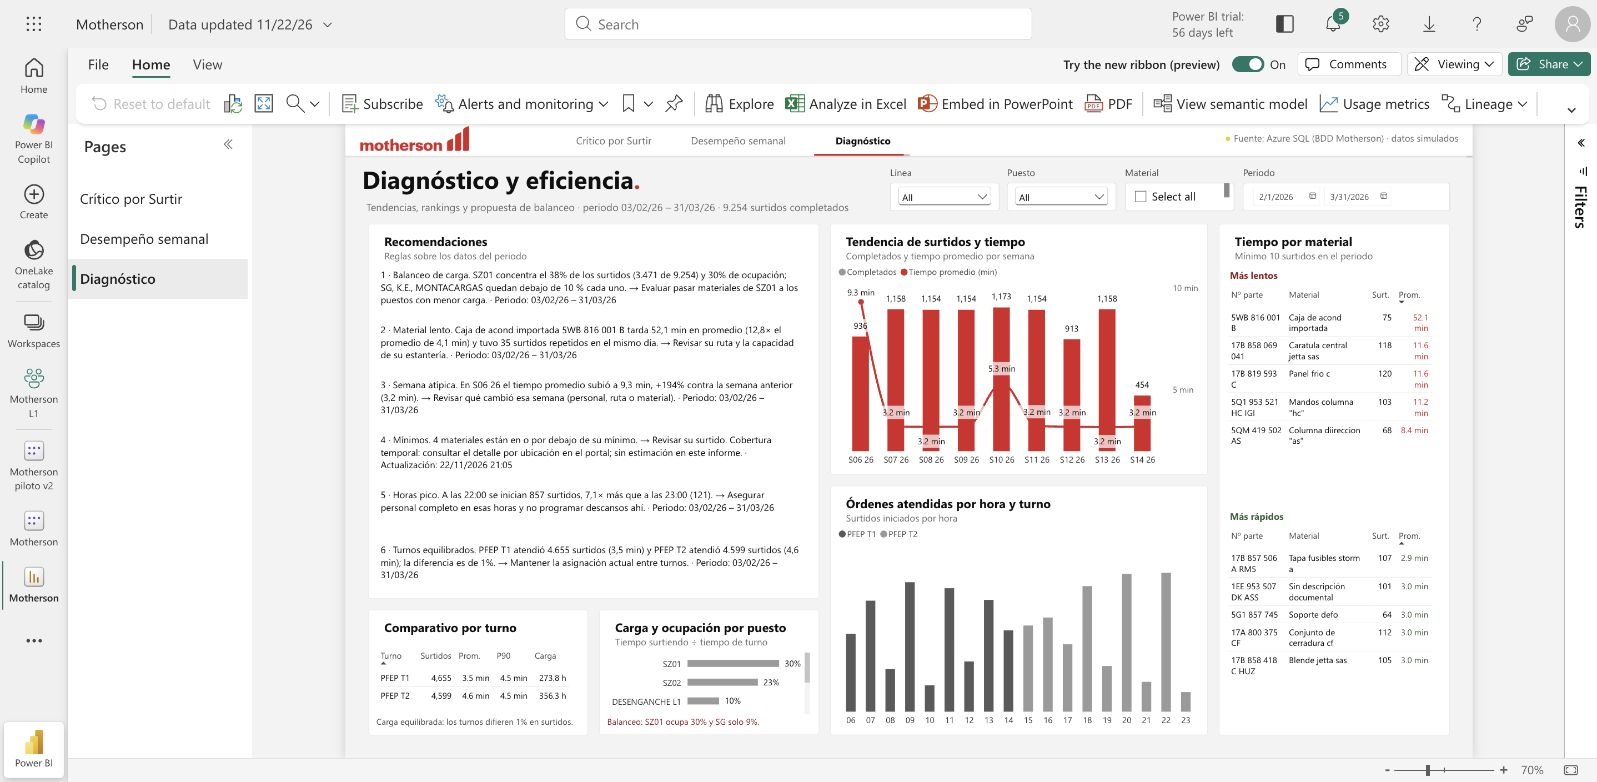

The page's visual inventory and layout, read from the dashboard file:
{"tool":"powerbi","page":{"name":"Diagnóstico","canvas":[1600,900],"ordinal":2},"visuals":[{"type":"textbox","box":[0,0,1600,46],"z":200},{"type":"textbox","box":[0,46,1600,2],"z":300},{"type":"image","box":[21.8,2.9,154.7,35.3],"z":400},{"type":"pageNavigator","box":[296,3,525,42],"z":600},{"type":"textbox","box":[666,43,135,3],"z":700},{"type":"textbox","box":[1230,10,350,28],"z":800},{"type":"textbox","box":[24,56,740,52],"z":900},{"type":"multiRowCard","fields":{"Values":["REGISTRO.Diagnostico Subtitulo"]},"box":[30,108,730,26],"z":1000},{"type":"textbox","box":[773,60,155,24],"z":1100},{"type":"slicer","fields":{"Values":["ESTACION.Linea"]},"box":[773,84,155,40],"z":1200},{"type":"textbox","box":[940,60,155,24],"z":1300},{"type":"slicer","fields":{"Values":["PUESTO_LOGISTICO.Personal"]},"box":[940,84,155,40],"z":1400},{"type":"textbox","box":[1107,60,155,24],"z":1500},{"type":"slicer","fields":{"Values":["MATERIAL.numero_parte"]},"box":[1107,84,155,40],"z":1600},{"type":"textbox","box":[1274,60,294,24],"z":1700},{"type":"slicer","fields":{"Values":["REGISTRO.Fecha"]},"box":[1274,84,294,40],"z":1800},{"type":"textbox","box":[32,142,640,532],"z":2000},{"type":"tableEx","fields":{"Values":["REGISTRO.Rec 1 Balanceo"]},"box":[44,196,616,74],"z":2100},{"type":"tableEx","fields":{"Values":["REGISTRO.Rec 2 Material Lento"]},"box":[44,274,616,74],"z":2110},{"type":"tableEx","fields":{"Values":["REGISTRO.Rec 3 Semana Atipica"]},"box":[44,352,616,74],"z":2120},{"type":"tableEx","fields":{"Values":["REGISTRO.Rec 4 Riesgo"]},"box":[44,430,616,74],"z":2130},{"type":"tableEx","fields":{"Values":["REGISTRO.Rec 5 Horas Pico"]},"box":[44,508,616,74],"z":2140},{"type":"tableEx","fields":{"Values":["REGISTRO.Rec 6 Turnos"]},"box":[44,586,616,74],"z":2150},{"type":"textbox","box":[688,142,536,356],"z":3000},{"type":"lineClusteredColumnComboChart","fields":{"Category":["REGISTRO.Semana Corta"],"Y":["REGISTRO.Reabast Completados"],"Y2":["REGISTRO.Tiempo Promedio Reabast"]},"box":[700,196,512,294],"z":3100},{"type":"textbox","box":[688,514,536,354],"z":3200},{"type":"columnChart","fields":{"Category":["REGISTRO.Hora"],"Series":["TURNO.nombre_turno"],"Y":["REGISTRO.Reabastecimientos"]},"box":[700,568,512,292],"z":3300},{"type":"textbox","box":[1240,142,328,726],"z":4000},{"type":"textbox","box":[1256,206,200,23],"z":4010},{"type":"textbox","box":[1256,548,200,24],"z":4020},{"type":"tableEx","fields":{"Values":["MATERIAL.numero_parte","MATERIAL.Descripcion Mostrar","REGISTRO.Rank Lento Surtidos","REGISTRO.Rank Lento Tiempo"]},"box":[1252,230,304,304],"z":4030},{"type":"tableEx","fields":{"Values":["MATERIAL.numero_parte","MATERIAL.Descripcion Mostrar","REGISTRO.Rank Rapido Surtidos","REGISTRO.Rank Rapido Tiempo"]},"box":[1252,572,304,288],"z":4040},{"type":"textbox","box":[32.3,690,311.5,178.5],"z":4100},{"type":"tableEx","fields":{"Values":["TURNO.nombre_turno","REGISTRO.Reabast Completados","REGISTRO.Tiempo Promedio Reabast","REGISTRO.Tiempo P90 Reabast","REGISTRO.Tiempo Acumulado Horas"]},"box":[43.8,742.3,288.5,117.7],"z":4110},{"type":"multiRowCard","fields":{"Values":["REGISTRO.Turnos Nota"]},"box":[44,840,288,24],"z":4120},{"type":"textbox","box":[360,690,312,178],"z":4200},{"type":"clusteredBarChart","fields":{"Category":["PUESTO_LOGISTICO.Personal"],"Y":["REGISTRO.% Ocupacion Puesto"]},"box":[372,742,288,96],"z":4210},{"type":"multiRowCard","fields":{"Values":["REGISTRO.Balanceo Nota"]},"box":[372,840,288,22],"z":4220}]}

Visuals, with their boxes on the page's 1600x900 design canvas (x1, y1, x2, y2). These are canvas units, not pixel positions in the 1597x782 screenshot, which may show the page scaled, cropped or inside an application window:
textbox: {"x1": 0, "y1": 0, "x2": 1600, "y2": 46}
textbox: {"x1": 0, "y1": 46, "x2": 1600, "y2": 48}
image: {"x1": 22, "y1": 3, "x2": 176, "y2": 38}
pageNavigator: {"x1": 296, "y1": 3, "x2": 821, "y2": 45}
textbox: {"x1": 666, "y1": 43, "x2": 801, "y2": 46}
textbox: {"x1": 1230, "y1": 10, "x2": 1580, "y2": 38}
textbox: {"x1": 24, "y1": 56, "x2": 764, "y2": 108}
multiRowCard - REGISTRO.Diagnostico Subtitulo: {"x1": 30, "y1": 108, "x2": 760, "y2": 134}
textbox: {"x1": 773, "y1": 60, "x2": 928, "y2": 84}
slicer - ESTACION.Linea: {"x1": 773, "y1": 84, "x2": 928, "y2": 124}
textbox: {"x1": 940, "y1": 60, "x2": 1095, "y2": 84}
slicer - PUESTO_LOGISTICO.Personal: {"x1": 940, "y1": 84, "x2": 1095, "y2": 124}
textbox: {"x1": 1107, "y1": 60, "x2": 1262, "y2": 84}
slicer - MATERIAL.numero_parte: {"x1": 1107, "y1": 84, "x2": 1262, "y2": 124}
textbox: {"x1": 1274, "y1": 60, "x2": 1568, "y2": 84}
slicer - REGISTRO.Fecha: {"x1": 1274, "y1": 84, "x2": 1568, "y2": 124}
textbox: {"x1": 32, "y1": 142, "x2": 672, "y2": 674}
tableEx - REGISTRO.Rec 1 Balanceo: {"x1": 44, "y1": 196, "x2": 660, "y2": 270}
tableEx - REGISTRO.Rec 2 Material Lento: {"x1": 44, "y1": 274, "x2": 660, "y2": 348}
tableEx - REGISTRO.Rec 3 Semana Atipica: {"x1": 44, "y1": 352, "x2": 660, "y2": 426}
tableEx - REGISTRO.Rec 4 Riesgo: {"x1": 44, "y1": 430, "x2": 660, "y2": 504}
tableEx - REGISTRO.Rec 5 Horas Pico: {"x1": 44, "y1": 508, "x2": 660, "y2": 582}
tableEx - REGISTRO.Rec 6 Turnos: {"x1": 44, "y1": 586, "x2": 660, "y2": 660}
textbox: {"x1": 688, "y1": 142, "x2": 1224, "y2": 498}
lineClusteredColumnComboChart - REGISTRO.Semana Corta x REGISTRO.Reabast Completados: {"x1": 700, "y1": 196, "x2": 1212, "y2": 490}
textbox: {"x1": 688, "y1": 514, "x2": 1224, "y2": 868}
columnChart - REGISTRO.Hora x TURNO.nombre_turno: {"x1": 700, "y1": 568, "x2": 1212, "y2": 860}
textbox: {"x1": 1240, "y1": 142, "x2": 1568, "y2": 868}
textbox: {"x1": 1256, "y1": 206, "x2": 1456, "y2": 229}
textbox: {"x1": 1256, "y1": 548, "x2": 1456, "y2": 572}
tableEx - MATERIAL.numero_parte x MATERIAL.Descripcion Mostrar: {"x1": 1252, "y1": 230, "x2": 1556, "y2": 534}
tableEx - MATERIAL.numero_parte x MATERIAL.Descripcion Mostrar: {"x1": 1252, "y1": 572, "x2": 1556, "y2": 860}
textbox: {"x1": 32, "y1": 690, "x2": 344, "y2": 868}
tableEx - TURNO.nombre_turno x REGISTRO.Reabast Completados: {"x1": 44, "y1": 742, "x2": 332, "y2": 860}
multiRowCard - REGISTRO.Turnos Nota: {"x1": 44, "y1": 840, "x2": 332, "y2": 864}
textbox: {"x1": 360, "y1": 690, "x2": 672, "y2": 868}
clusteredBarChart - PUESTO_LOGISTICO.Personal x REGISTRO.% Ocupacion Puesto: {"x1": 372, "y1": 742, "x2": 660, "y2": 838}
multiRowCard - REGISTRO.Balanceo Nota: {"x1": 372, "y1": 840, "x2": 660, "y2": 862}
